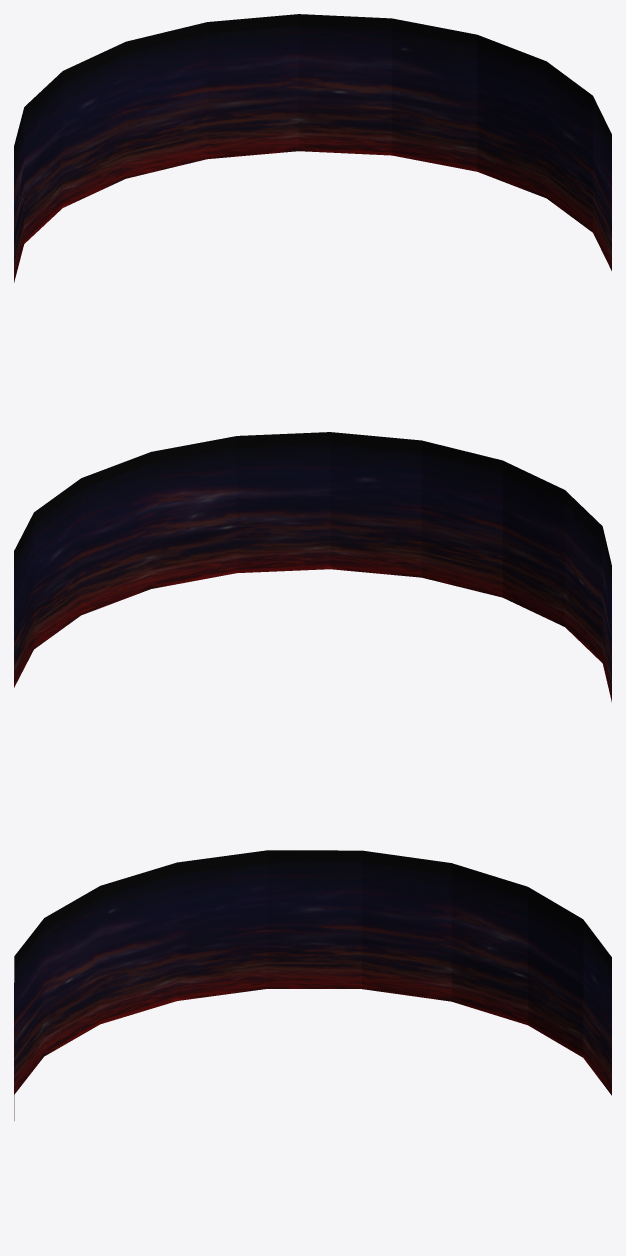
The model's file is vrcorn.glb.
The picture shows the model from 3 angles, top to bottom: view 1: azimuth 30°, elevation 25°; view 2: azimuth 150°, elevation 25°; view 3: azimuth 270°, elevation 25°; orthographic projection.
Parts seen in each view (by area): view 1: polygon0; view 2: polygon0; view 3: polygon0.
Boxes of the visible parts, x1,y1,x2,y2 form: polygon0: (14,14,611,282); polygon0: (14,432,611,701); polygon0: (14,850,611,1120).
Size of the model in its own units: 2666 by 899 by 2666.
1 material, 1 textured.
